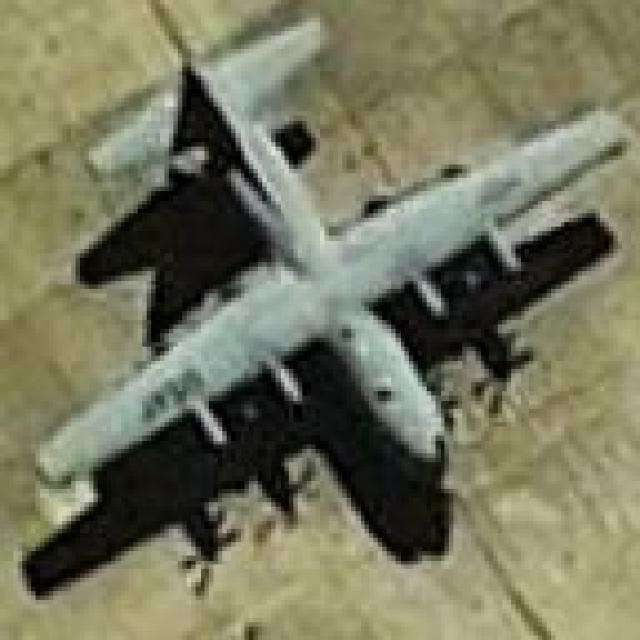C-130_TopDown: (11, 12, 634, 596)
